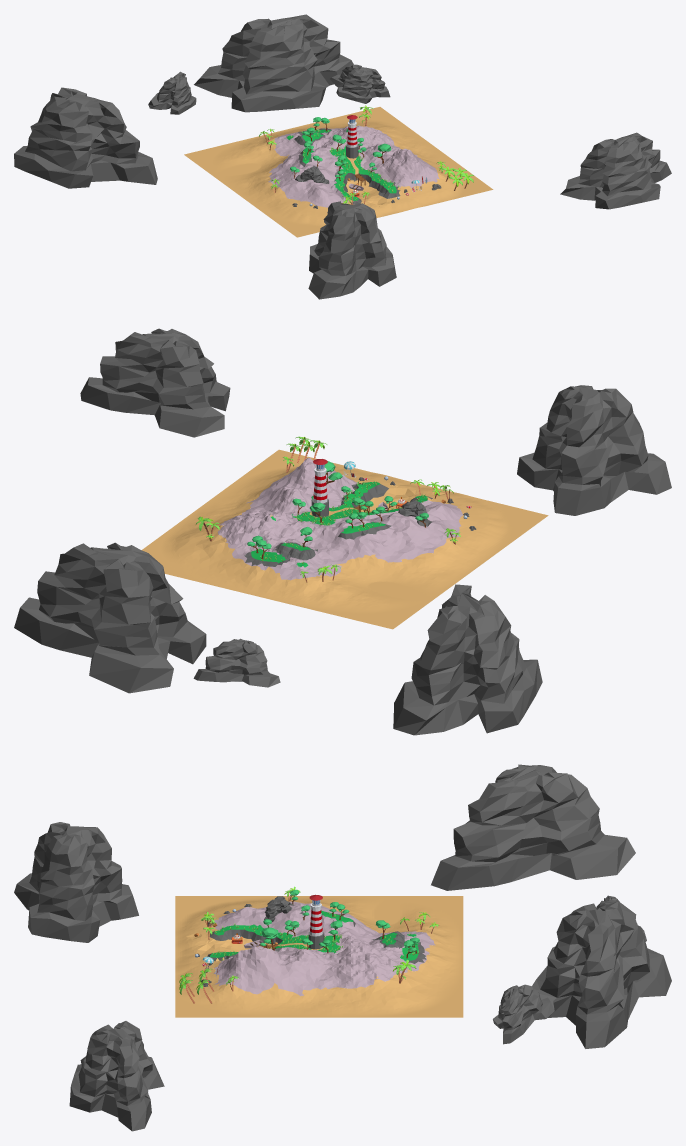
The model's file is 夏日情岛.glb.
The picture shows the model from 3 angles, top to bottom: view 1: azimuth 30°, elevation 25°; view 2: azimuth 150°, elevation 25°; view 3: azimuth 270°, elevation 25°; orthographic projection. The views are drawn at different scales.
Parts seen in each view (by area): view 1: Landscape, Plane.003, Plane.004, Plane.002, Plane.005, Plane.006, Plane.007, Cylinder; view 2: Landscape, Plane.003, Plane.004, Plane.002, Plane.005, Plane.007, Cylinder; view 3: Landscape, Plane.004, Plane.003, Plane.002, Plane.005, Plane.006, Cylinder.
Boxes of the visible parts, <box> form: Landscape: <box>184,107,493,237</box>; Plane.003: <box>194,14,353,112</box>; Plane.004: <box>14,87,157,188</box>; Plane.002: <box>308,201,396,299</box>; Plane.005: <box>560,132,671,209</box>; Plane.006: <box>330,64,390,103</box>; Plane.007: <box>148,71,196,114</box>; Cylinder: <box>346,115,358,158</box>; Landscape: <box>142,449,548,629</box>; Plane.003: <box>14,542,206,693</box>; Plane.004: <box>393,584,542,735</box>; Plane.002: <box>517,385,671,515</box>; Plane.005: <box>80,328,230,437</box>; Plane.007: <box>193,638,280,687</box>; Cylinder: <box>311,459,328,517</box>; Landscape: <box>175,896,463,1017</box>; Plane.004: <box>431,764,635,890</box>; Plane.003: <box>532,901,671,1048</box>; Plane.002: <box>14,822,138,942</box>; Plane.005: <box>69,1021,164,1131</box>; Plane.006: <box>493,984,554,1044</box>; Cylinder: <box>308,894,324,949</box>.
Bounding box in the file's own units: 12.42 × 1.75 × 11.42.
